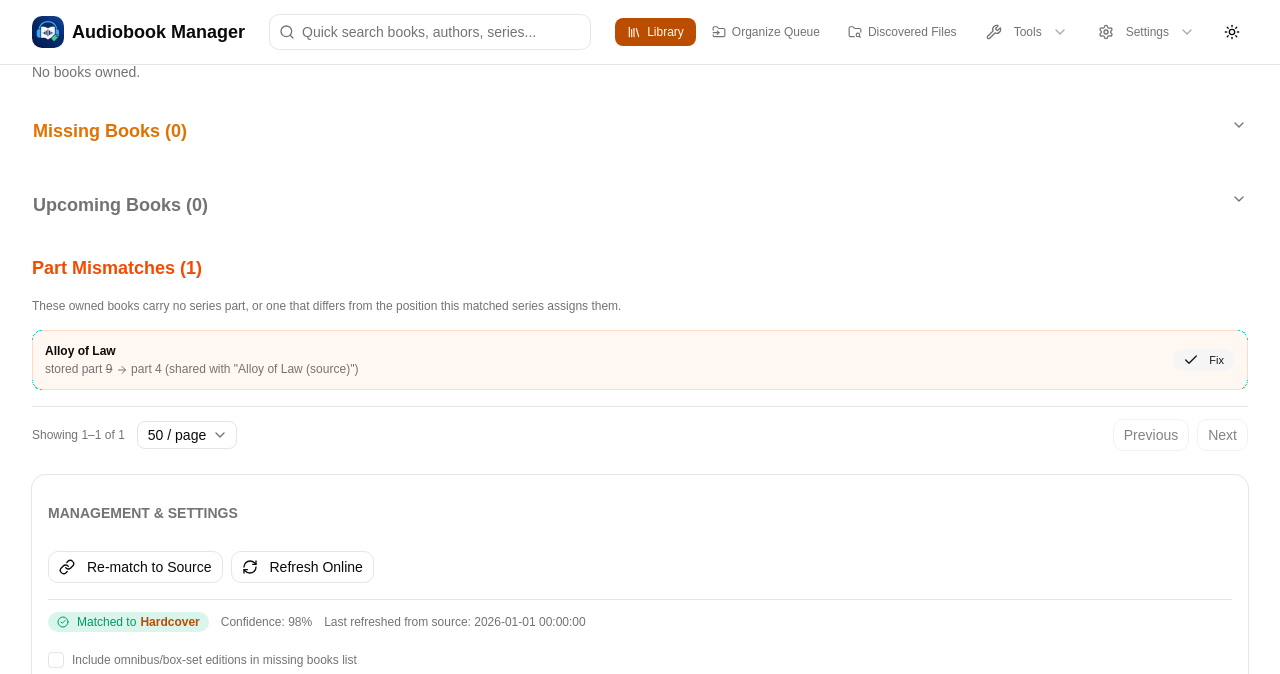
Test case: SeriesDetail › fixes a part mismatch through expected-books/apply and refetches the detail
(page scrolled)
Expected: the heading "Part Mismatches (1)" is shown, [32, 258, 202, 278]
Click the button "Fix".
click(1204, 360)  # box [1172, 348, 1235, 372]
(page scrolled)
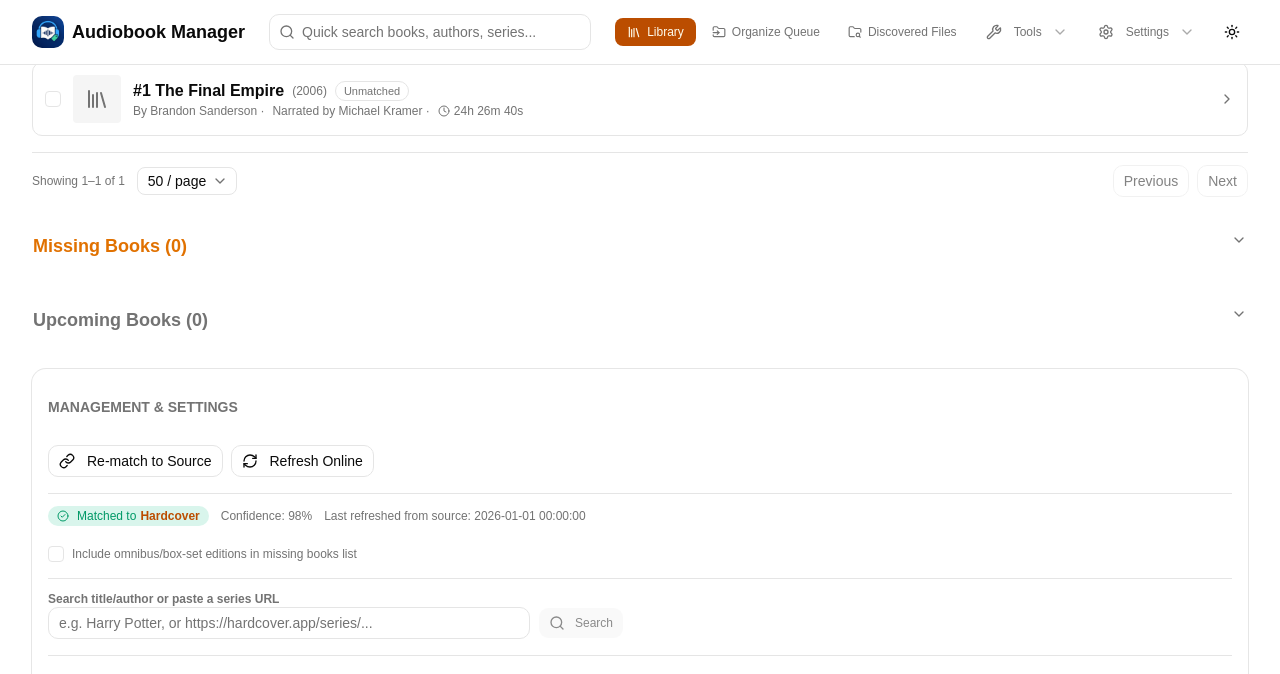
Now the heading "Part Mismatches" is gone
